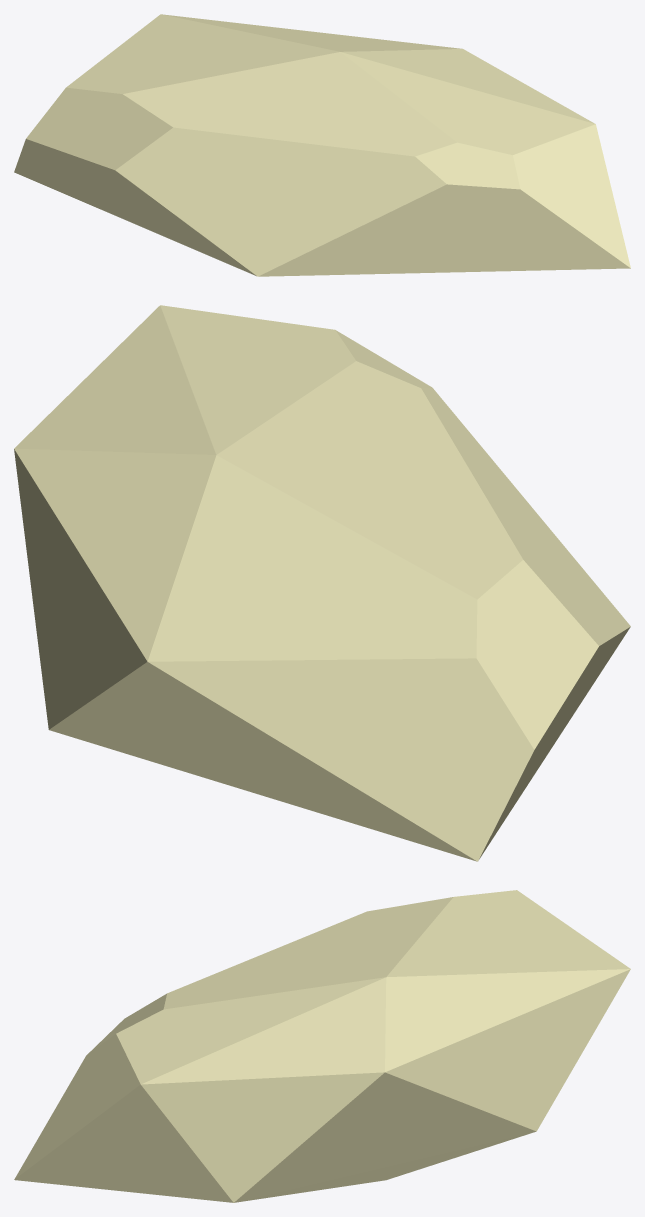
Rendered from Rock Large.fbx.
The picture shows the model from 3 angles, top to bottom: view 1: azimuth 30°, elevation 25°; view 2: azimuth 150°, elevation 25°; view 3: azimuth 270°, elevation 25°; orthographic projection. The views are drawn at different scales.
Visible parts, largest first — view 1: Stone; view 2: Stone; view 3: Stone.
Boxes of the visible parts, x1,y1,x2,y2 form: Stone: [14, 14, 630, 276]; Stone: [14, 305, 630, 861]; Stone: [14, 890, 630, 1202].
Bounding box in the file's own units: 0.7865 × 0.33 × 0.9088.
